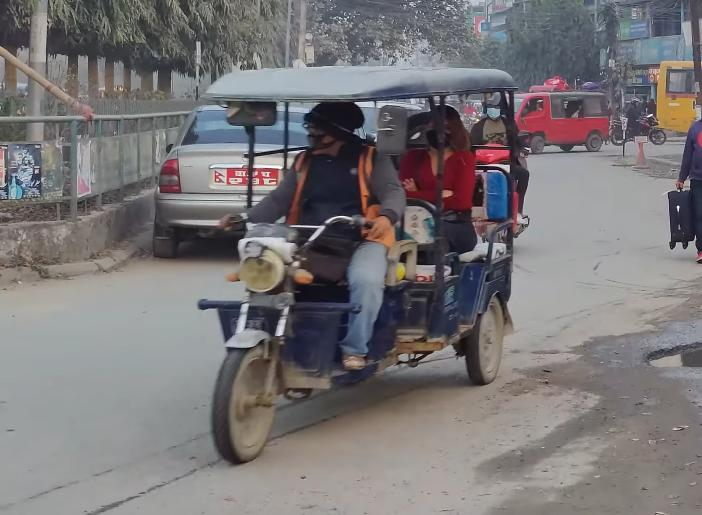bike: (611, 111, 666, 148)
e-rickshaw: (195, 54, 535, 466)
school_bus: (654, 57, 702, 136)
